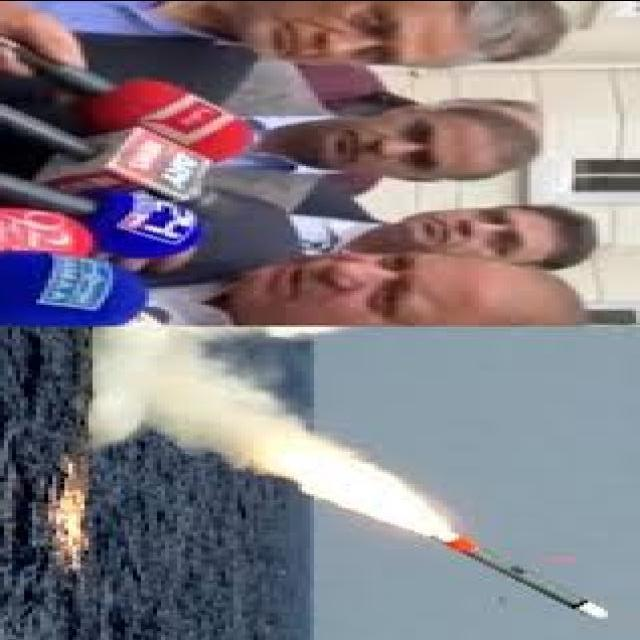Missile: (428, 528, 616, 622)
